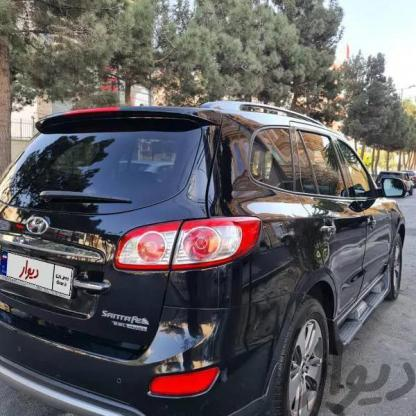Car: (0, 94, 410, 416)
